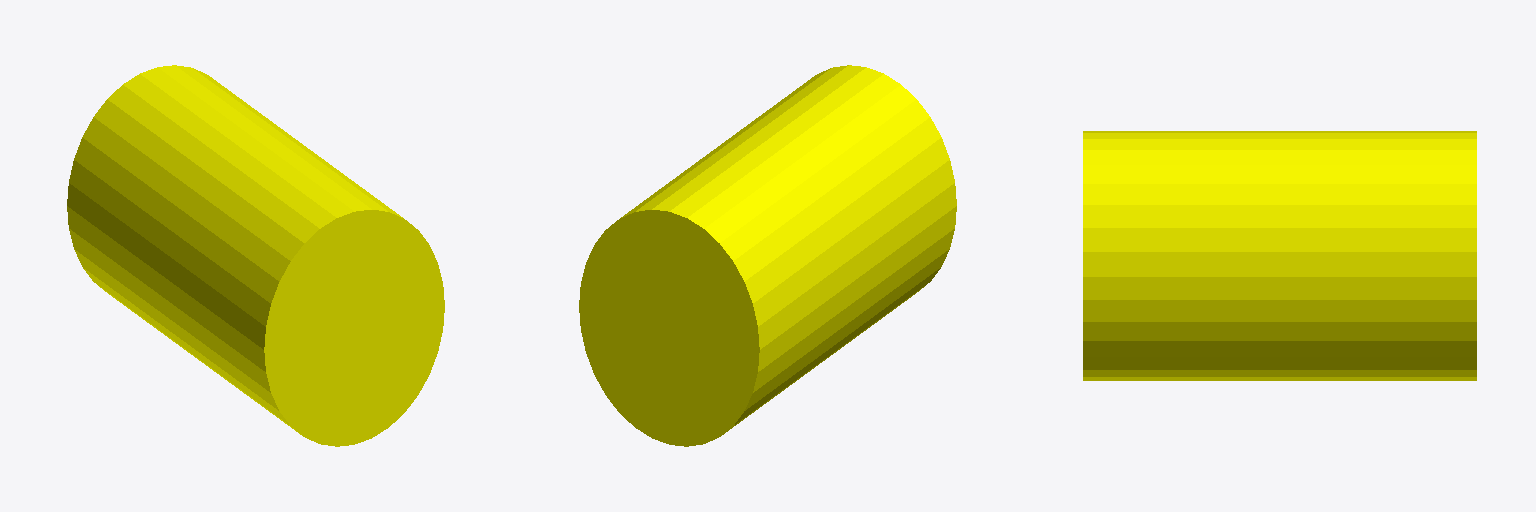
Rendered from Gkuka1.obj.
3 renders of one model, left to right at view 1: azimuth 30°, elevation 25°; view 2: azimuth 150°, elevation 25°; view 3: azimuth 270°, elevation 25°, orthographic.
Visible parts, largest first — view 1: unnamed_object1; view 2: unnamed_object1; view 3: unnamed_object1.
Part boxes in pixels (x1,y1,x2,y2): unnamed_object1: (67, 65, 444, 446); unnamed_object1: (579, 65, 956, 446); unnamed_object1: (1083, 131, 1476, 380).
Size of the model in its own units: 0.1331 by 0.1642 by 0.2518.